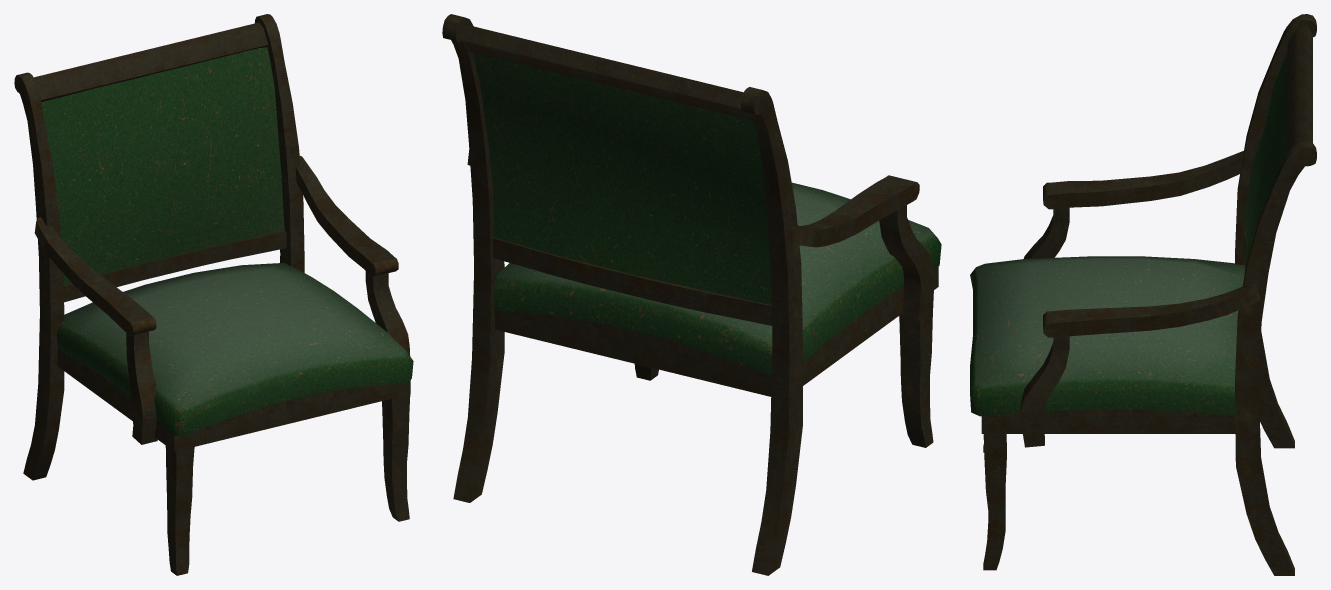
File: LeatherChair.fbx
3 renders of one model, left to right at view 1: azimuth 30°, elevation 25°; view 2: azimuth 150°, elevation 25°; view 3: azimuth 270°, elevation 25°, orthographic. The views are drawn at different scales.
Visible parts, largest first — view 1: Leather Chair; view 2: Leather Chair; view 3: Leather Chair.
Part boxes in pixels (left/top/right/bottom): Leather Chair: left=14, top=14, right=413, bottom=575; Leather Chair: left=442, top=14, right=941, bottom=575; Leather Chair: left=970, top=14, right=1316, bottom=575.
Bounding box in the file's own units: 1.71 × 2.39 × 1.76.
Materials: 1 (1 with a texture image).
